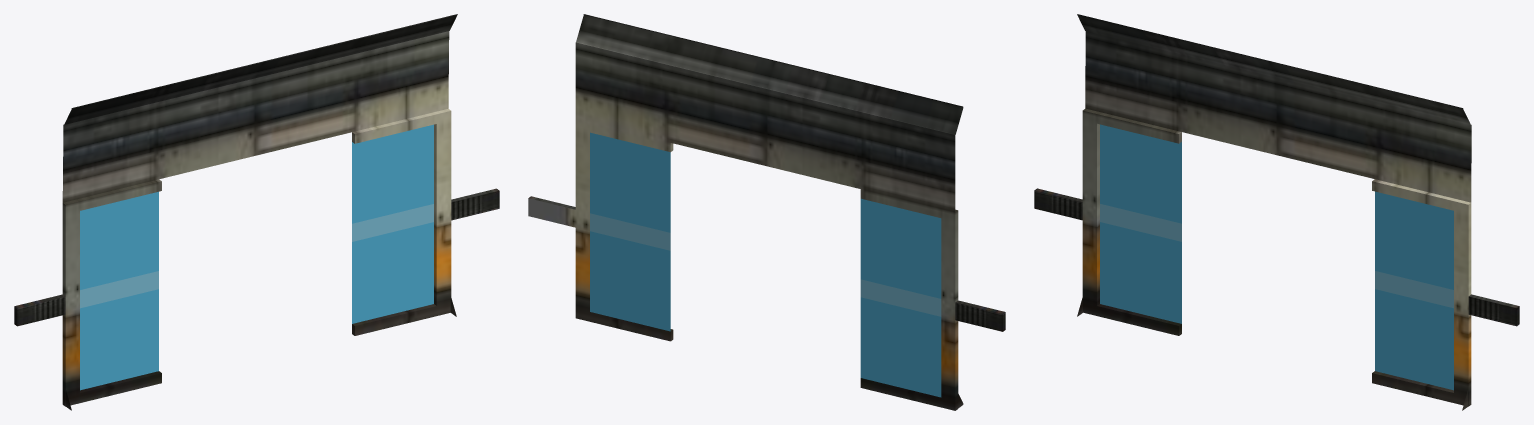
File: wall_doors_open.fbx
3 views of the same model, side by side, from view 1: azimuth 30°, elevation 25°; view 2: azimuth 150°, elevation 25°; view 3: azimuth 330°, elevation 25° (orthographic).
Parts seen in each view (by area): view 1: WideDoorsFrame; view 2: WideDoorsFrame; view 3: WideDoorsFrame.
Boxes of the visible parts, left/top/right/bottom form: WideDoorsFrame: left=14, top=14, right=499, bottom=410; WideDoorsFrame: left=528, top=14, right=1005, bottom=410; WideDoorsFrame: left=1034, top=14, right=1519, bottom=410.
Bounding box in the file's own units: 1000 × 600 × 31.03.
3 materials, 1 textured.
